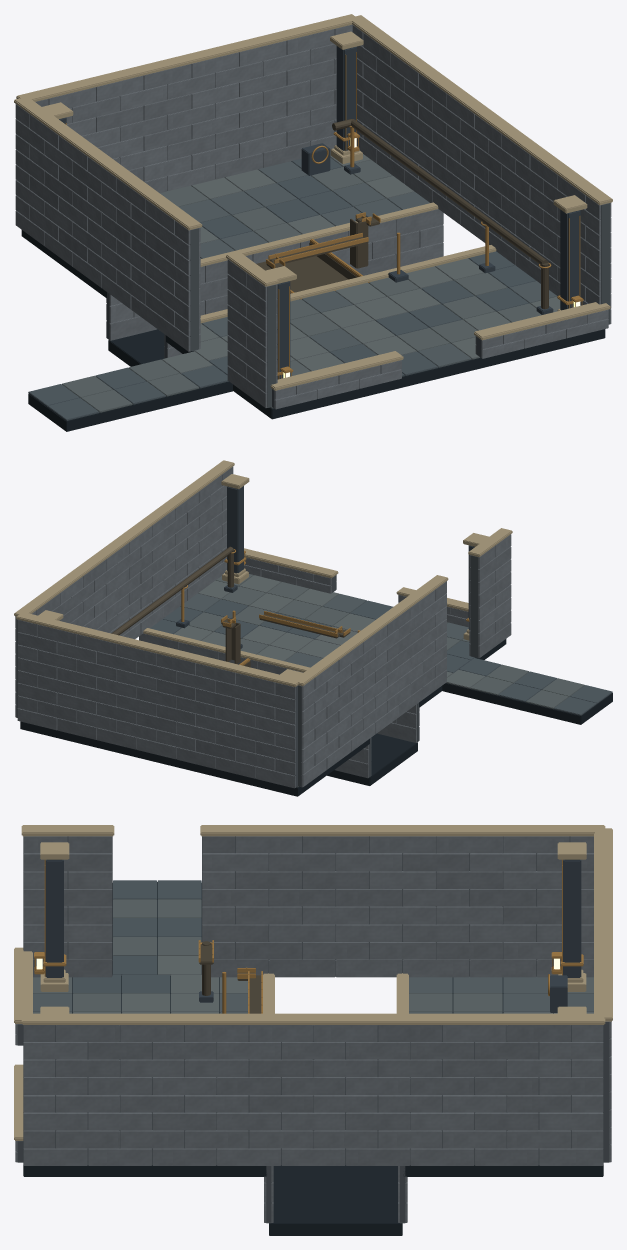
The model's file is foundry-static-v03.glb.
The picture shows the model from 3 angles, top to bottom: view 1: azimuth 30°, elevation 25°; view 2: azimuth 150°, elevation 25°; view 3: azimuth 270°, elevation 25°; orthographic projection. The views are drawn at different scales.
Visible parts, largest first — view 1: foundry-static-v03 Fire coursed basalt, foundry-static-v03 Ash stone • warm trim, foundry-static-v03 Floor stone 2, foundry-static-v03 Floor stone 3, foundry-static-v03 Floor stone 1, foundry-static-v03 Floor stone 0, foundry-static-v03 Recesses and grout, foundry-static-v03 Basalt • charcoal, foundry-static-v03 Bronze • aged recess, foundry-static-v03 Fire recessed mortar, foundry-static-v03 Bronze • forged warm; view 2: foundry-static-v03 Fire coursed basalt, foundry-static-v03 Ash stone • warm trim, foundry-static-v03 Recesses and grout, foundry-static-v03 Floor stone 2, foundry-static-v03 Floor stone 3, foundry-static-v03 Floor stone 1, foundry-static-v03 Bronze • aged recess, foundry-static-v03 Fire recessed mortar, foundry-static-v03 Basalt • charcoal, foundry-static-v03 Floor stone 0, foundry-static-v03 Bronze • forged warm; view 3: foundry-static-v03 Fire coursed basalt, foundry-static-v03 Ash stone • warm trim, foundry-static-v03 Recesses and grout, foundry-static-v03 Floor stone 1, foundry-static-v03 Floor stone 3, foundry-static-v03 Basalt • charcoal, foundry-static-v03 Floor stone 0, foundry-static-v03 Fire recessed mortar, foundry-static-v03 Floor stone 2, foundry-static-v03 Bronze • forged warm, foundry-static-v03 Bronze • aged recess.
Part boxes in pixels (x1,y1,x2,y2): foundry-static-v03 Fire coursed basalt: (15,24,611,409); foundry-static-v03 Ash stone • warm trim: (14,14,612,390); foundry-static-v03 Floor stone 2: (162,152,560,373); foundry-static-v03 Floor stone 3: (28,158,536,420); foundry-static-v03 Floor stone 1: (62,160,541,412); foundry-static-v03 Floor stone 0: (179,161,557,367); foundry-static-v03 Recesses and grout: (21,230,605,431); foundry-static-v03 Basalt • charcoal: (59,46,580,379); foundry-static-v03 Bronze • aged recess: (256,119,548,309); foundry-static-v03 Fire recessed mortar: (72,59,609,408); foundry-static-v03 Bronze • forged warm: (65,52,583,379); foundry-static-v03 Fire coursed basalt: (15,466,511,788); foundry-static-v03 Ash stone • warm trim: (14,460,512,686); foundry-static-v03 Recesses and grout: (20,639,612,796); foundry-static-v03 Floor stone 2: (174,575,485,688); foundry-static-v03 Floor stone 3: (150,599,612,715); foundry-static-v03 Floor stone 1: (188,574,584,787); foundry-static-v03 Bronze • aged recess: (111,546,350,667); foundry-static-v03 Fire recessed mortar: (16,555,478,787); foundry-static-v03 Basalt • charcoal: (176,486,474,648); foundry-static-v03 Floor stone 0: (180,593,468,667); foundry-static-v03 Bronze • forged warm: (181,549,469,665); foundry-static-v03 Fire coursed basalt: (15,836,611,1222); foundry-static-v03 Ash stone • warm trim: (14,825,612,1140); foundry-static-v03 Recesses and grout: (23,882,603,1235); foundry-static-v03 Floor stone 1: (33,899,593,1013); foundry-static-v03 Floor stone 3: (73,880,201,993); foundry-static-v03 Basalt • charcoal: (45,859,581,1012); foundry-static-v03 Floor stone 0: (33,976,593,1013); foundry-static-v03 Fire recessed mortar: (17,836,609,1223); foundry-static-v03 Floor stone 2: (73,955,593,1013); foundry-static-v03 Bronze • forged warm: (34,859,583,1013); foundry-static-v03 Bronze • aged recess: (199,941,261,1013).
Bounding box in the file's own units: 30.42 × 10.82 × 26.85.
12 materials, 1 textured.
